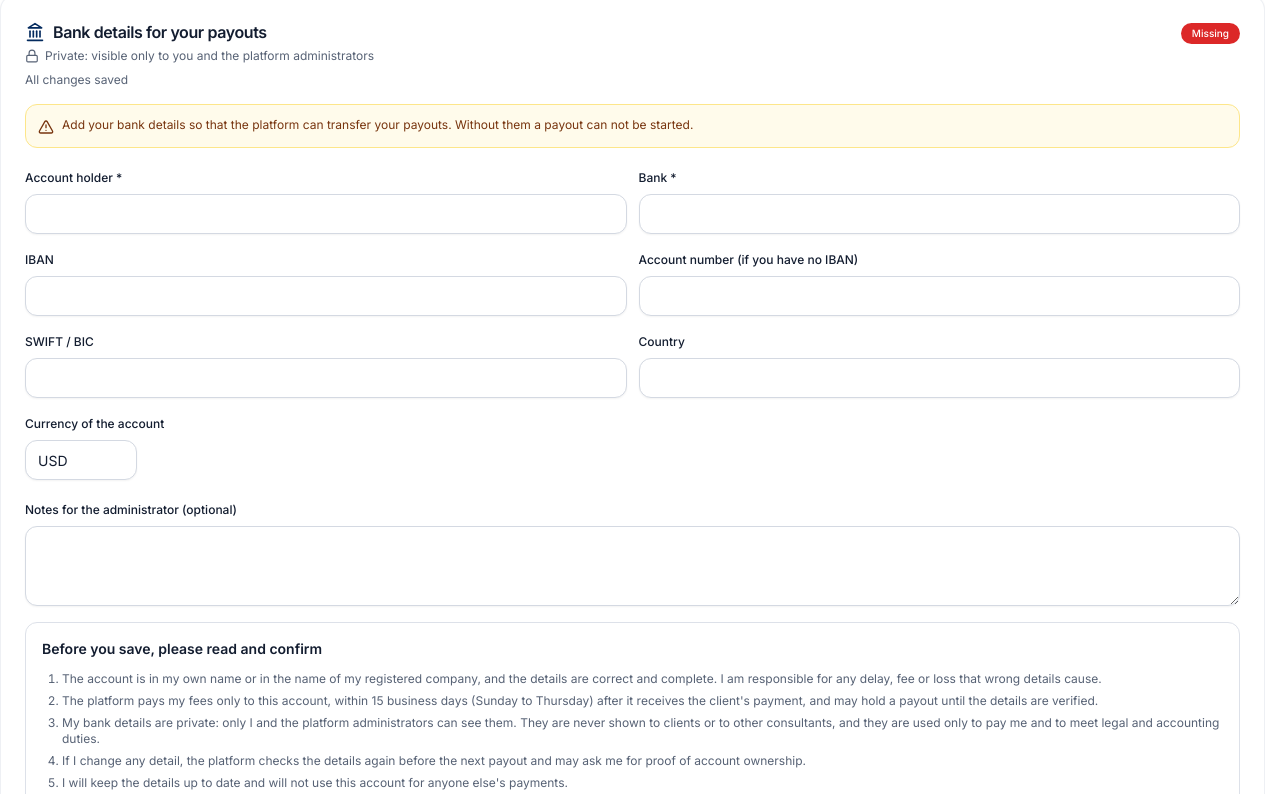
PayoutDetailsCard › asks for the disclaimer next to the checkbox when everything else is valid
Expected: the text "Before you save, please read and confirm" is shown, [42,640,322,657]
Type "Jane Doe" into the field labelled "Account holder *". click: {"x": 326, "y": 214}
box: [25,194,626,234]
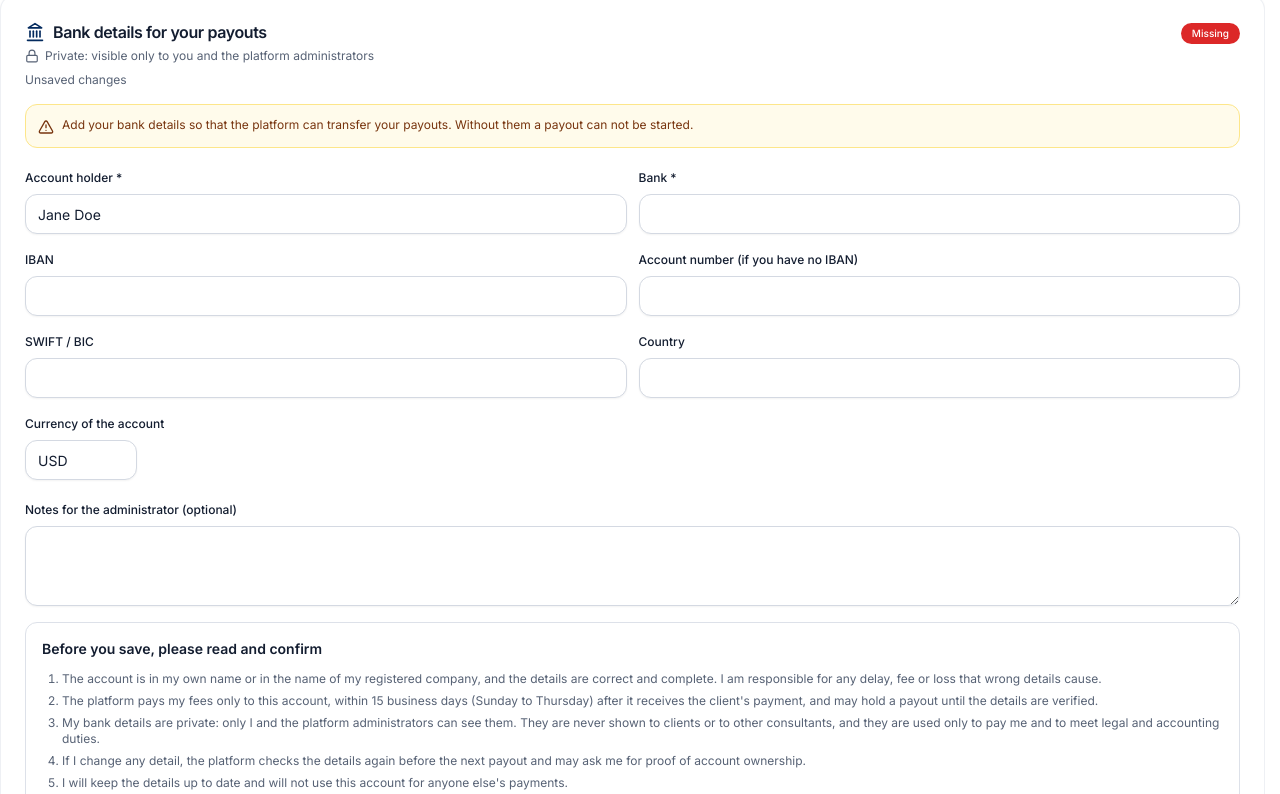
Type "Test Bank" into the field labelled "Bank *". click: {"x": 939, "y": 214}
box: [638,194,1240,234]
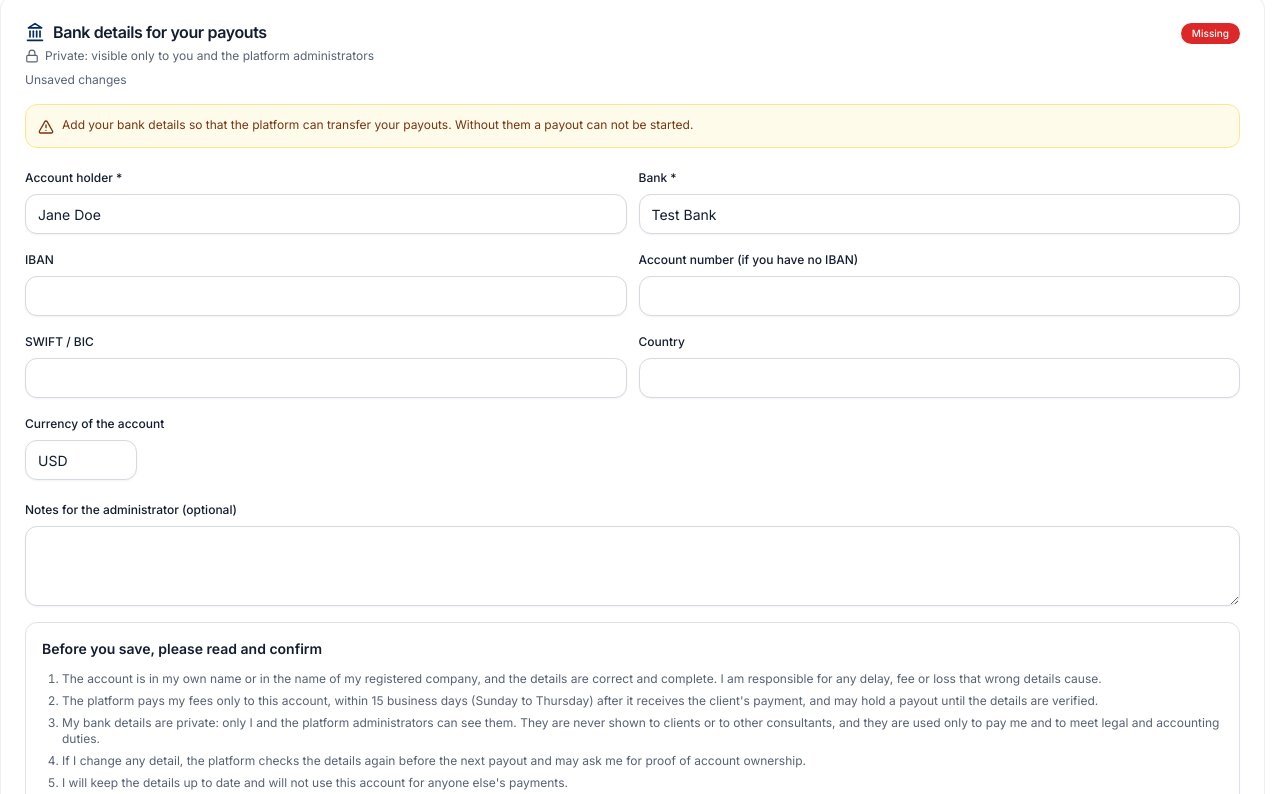
Type "12345678" into the field labelled "Account number (if you have no IBAN)". click: {"x": 939, "y": 296}
box: [638,276,1240,316]
(page scrolled)
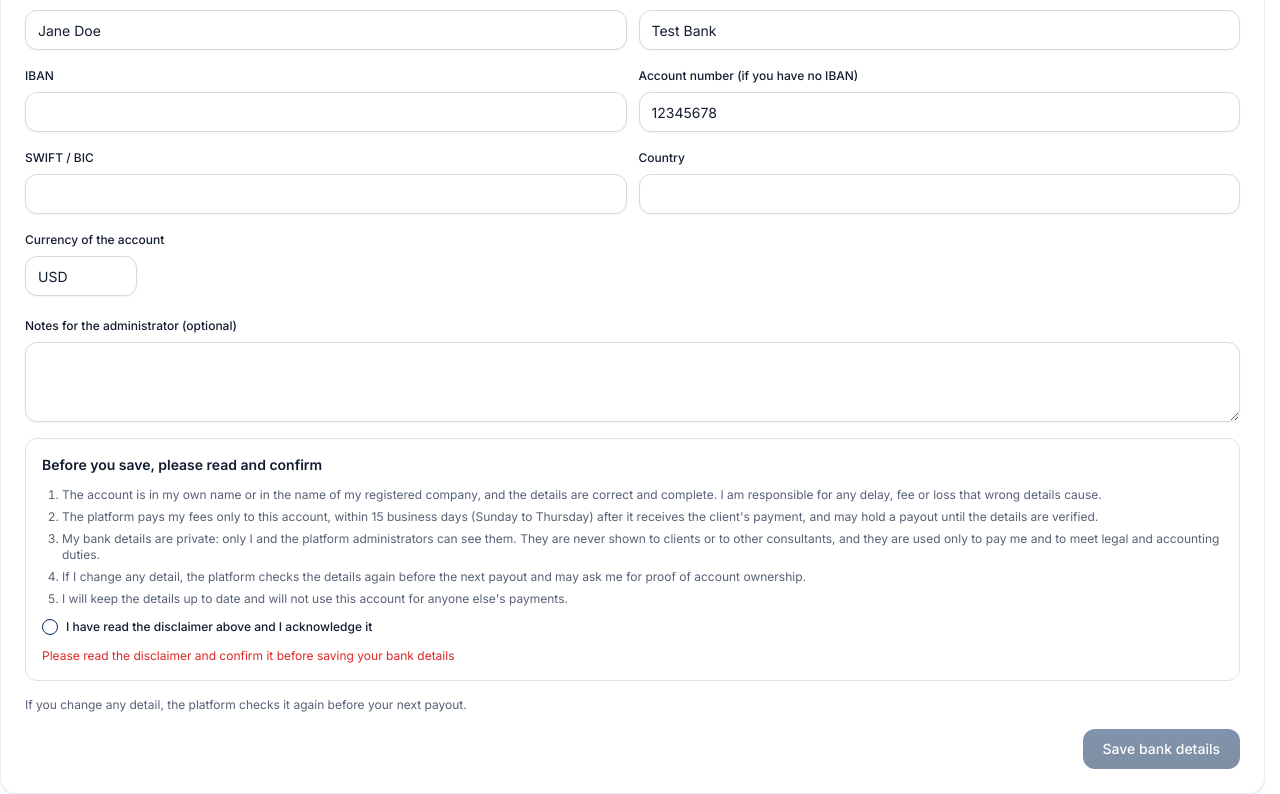
Expected: the text "Please read the disclaimer and confirm it before saving your bank details" is shown, [42,648,454,662]
Click the checkbox. click: {"x": 50, "y": 627}
box: [42,619,58,635]
(page scrolled)
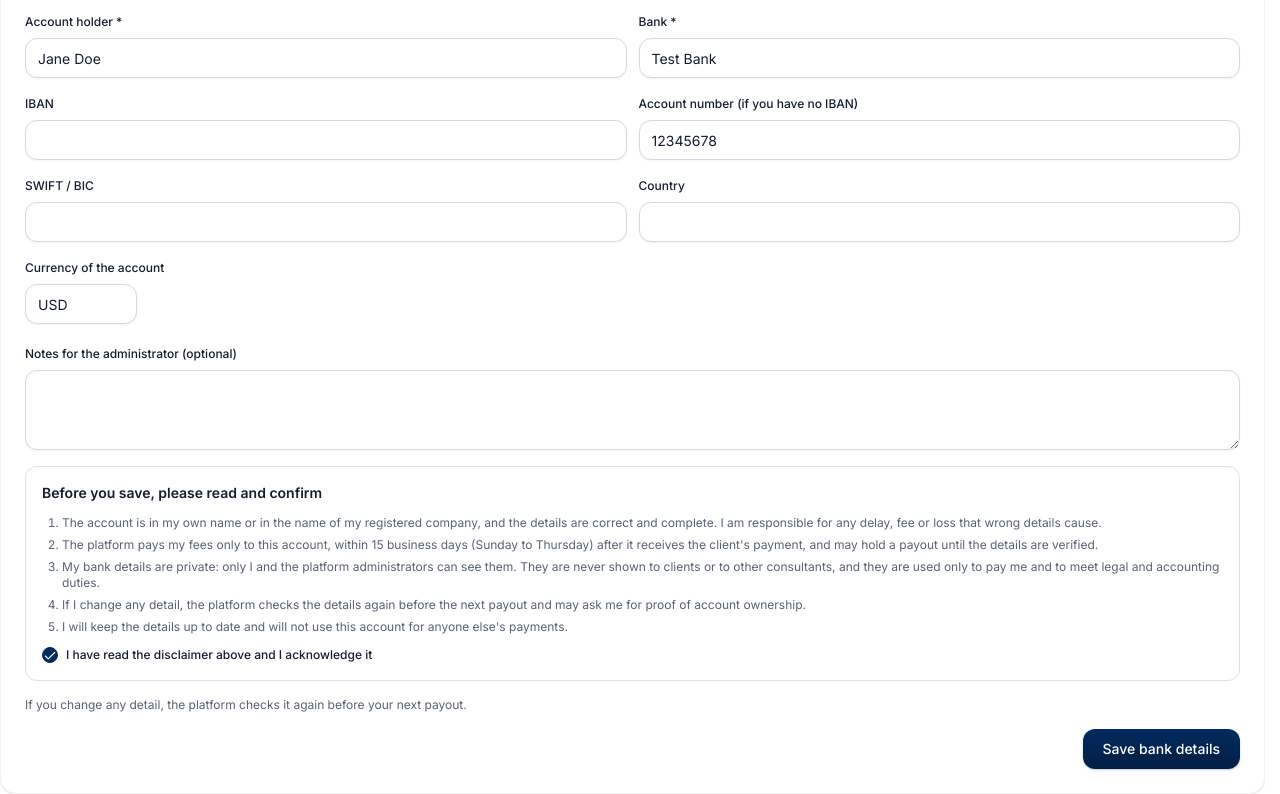
Expected: the text "Please read the disclaimer and confirm it before saving your bank details" is gone
